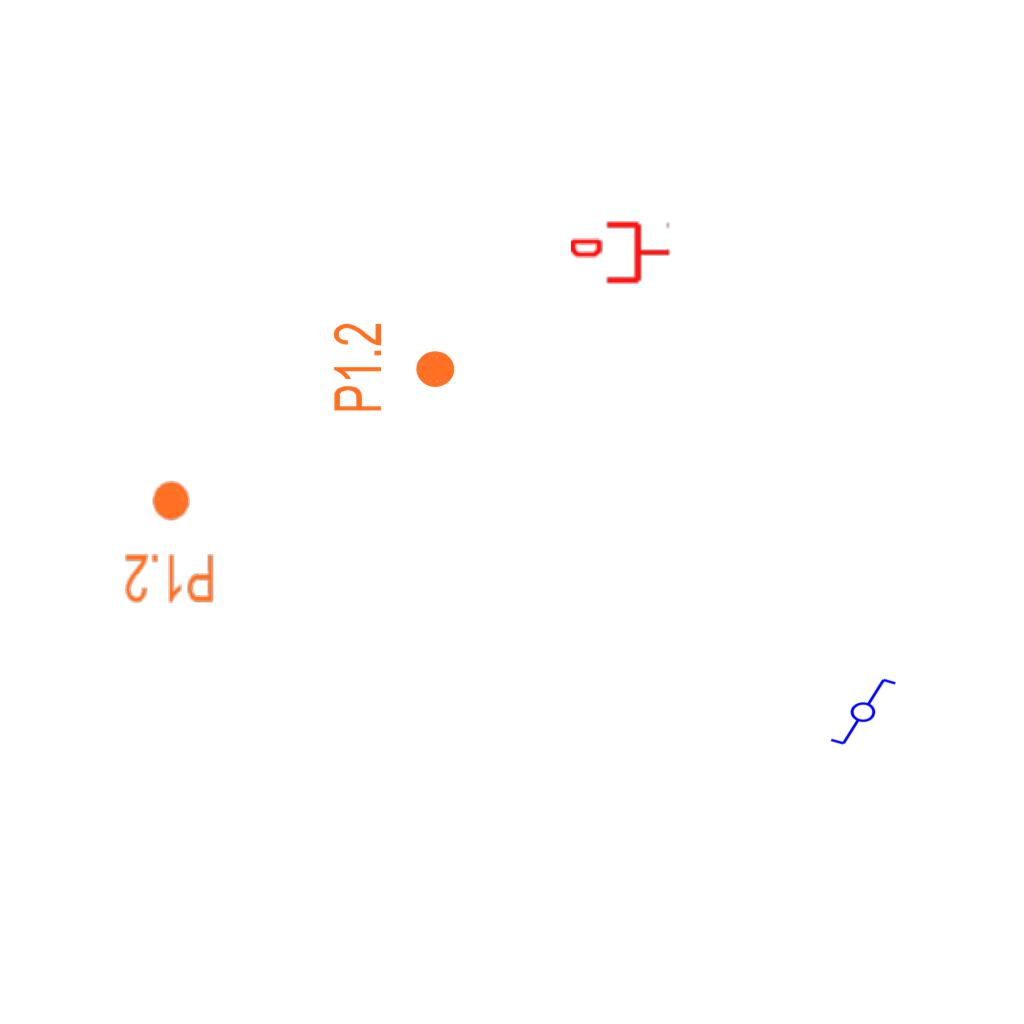Datenanschluss_einfach: (571, 218, 671, 287)
Downlight_LED_Einbauleuchten_Flur: (123, 478, 216, 606), (330, 321, 458, 414)
Wechselschalter: (820, 675, 898, 747)
